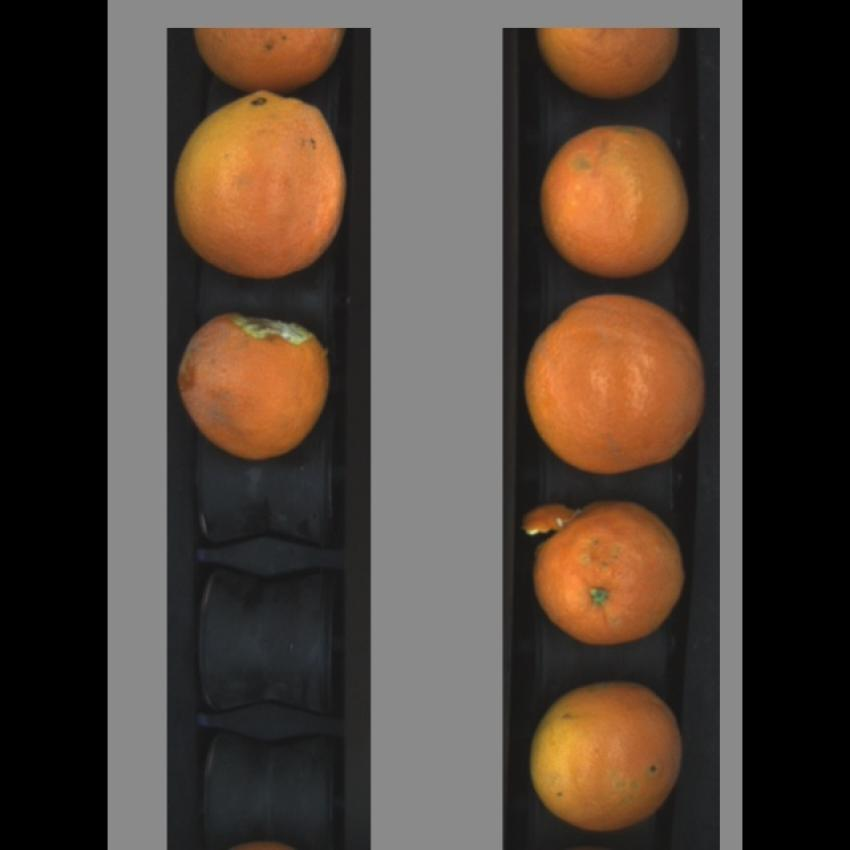Mal estado: (169, 92, 354, 281), (519, 292, 705, 469), (174, 303, 339, 471), (532, 676, 690, 833), (526, 498, 688, 647), (541, 118, 689, 273), (532, 23, 690, 100), (187, 26, 349, 92)
